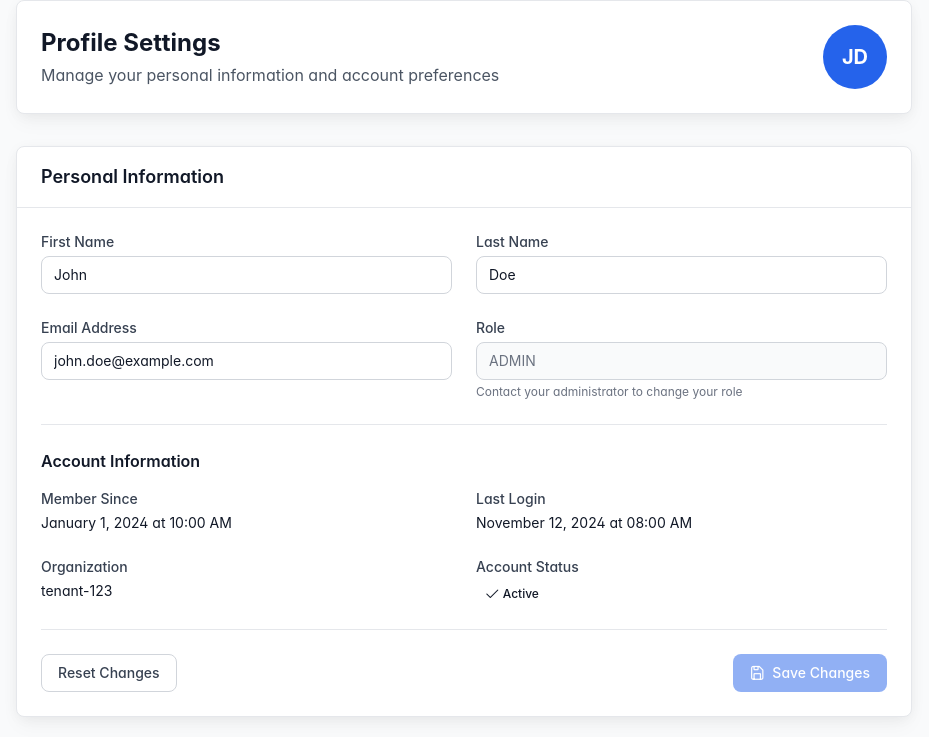
Test: ProfileView › Reset Functionality › should reset form to original values
Replace the text in the field with id "firstName" with "Jane" at (246, 275), box [41,256,452,294]
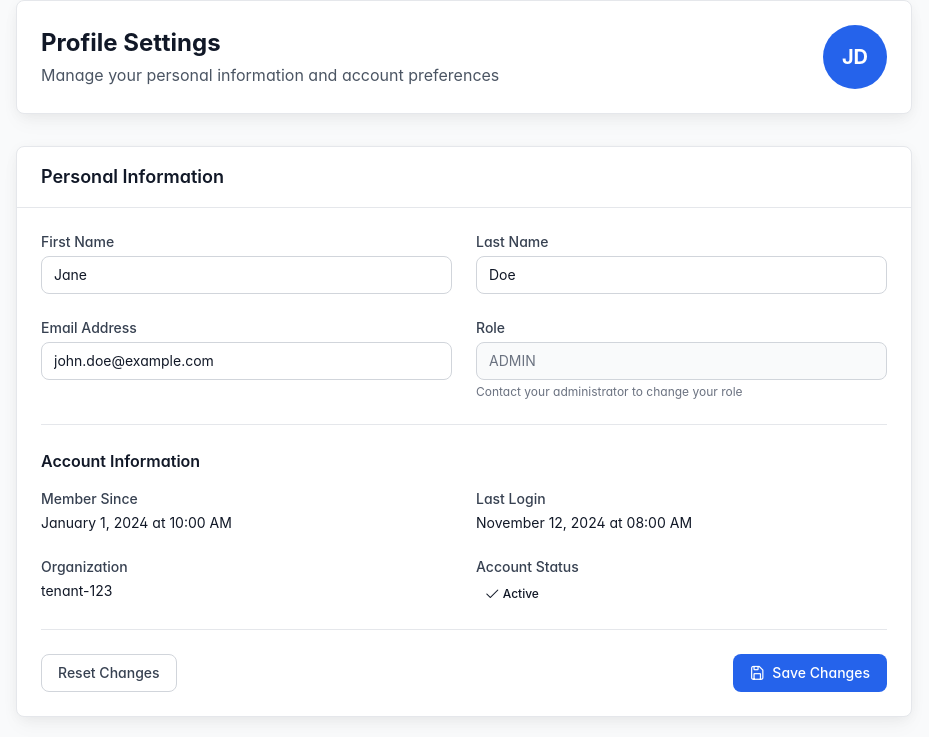
Click the button "Reset Changes" at (109, 673), box [41,654,177,692]
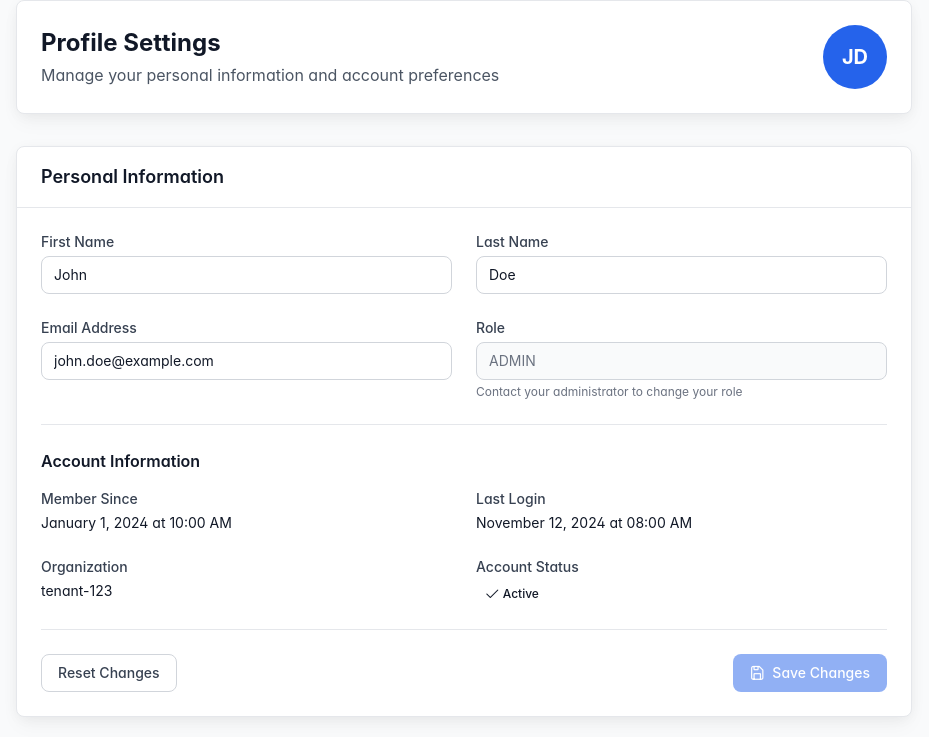
Expected: the field with id "firstName" holds "John", [41,256,452,294]
